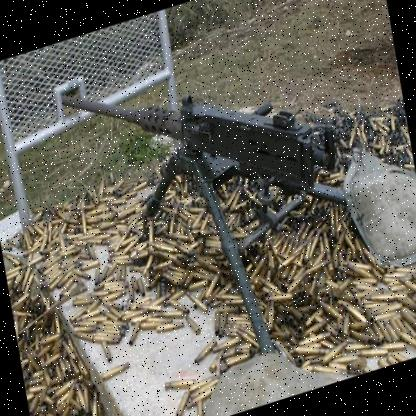rifle: (60, 8, 358, 268)
